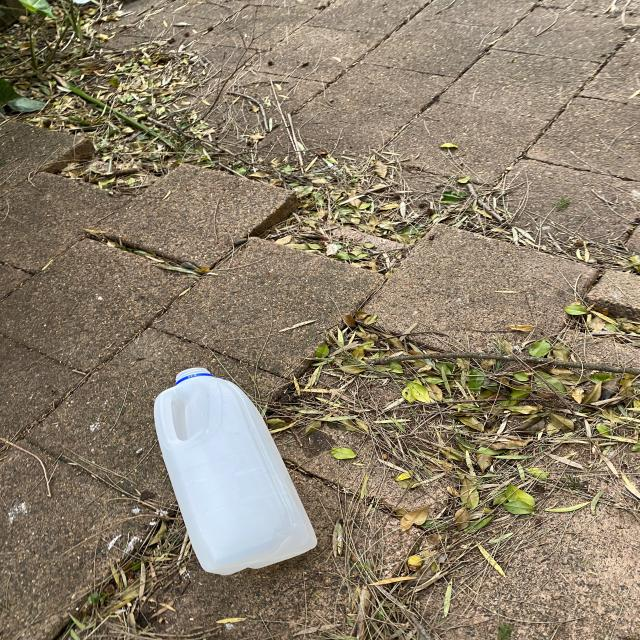bottle: (148, 360, 330, 578)
